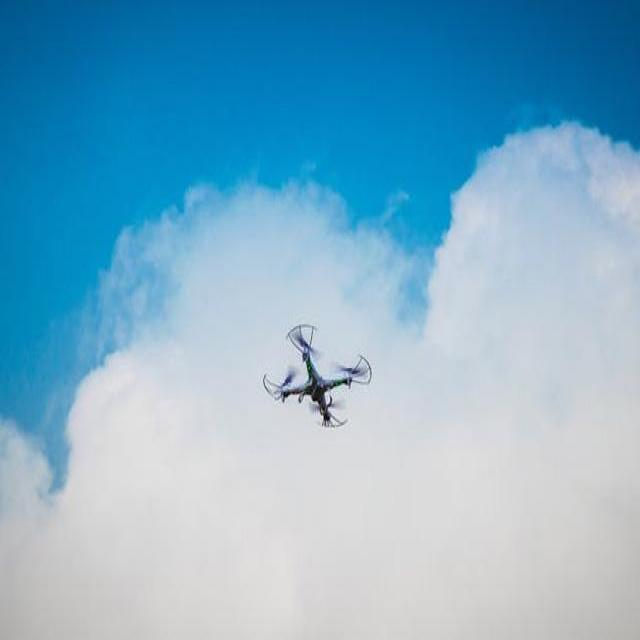UAV: (260, 320, 375, 431)
